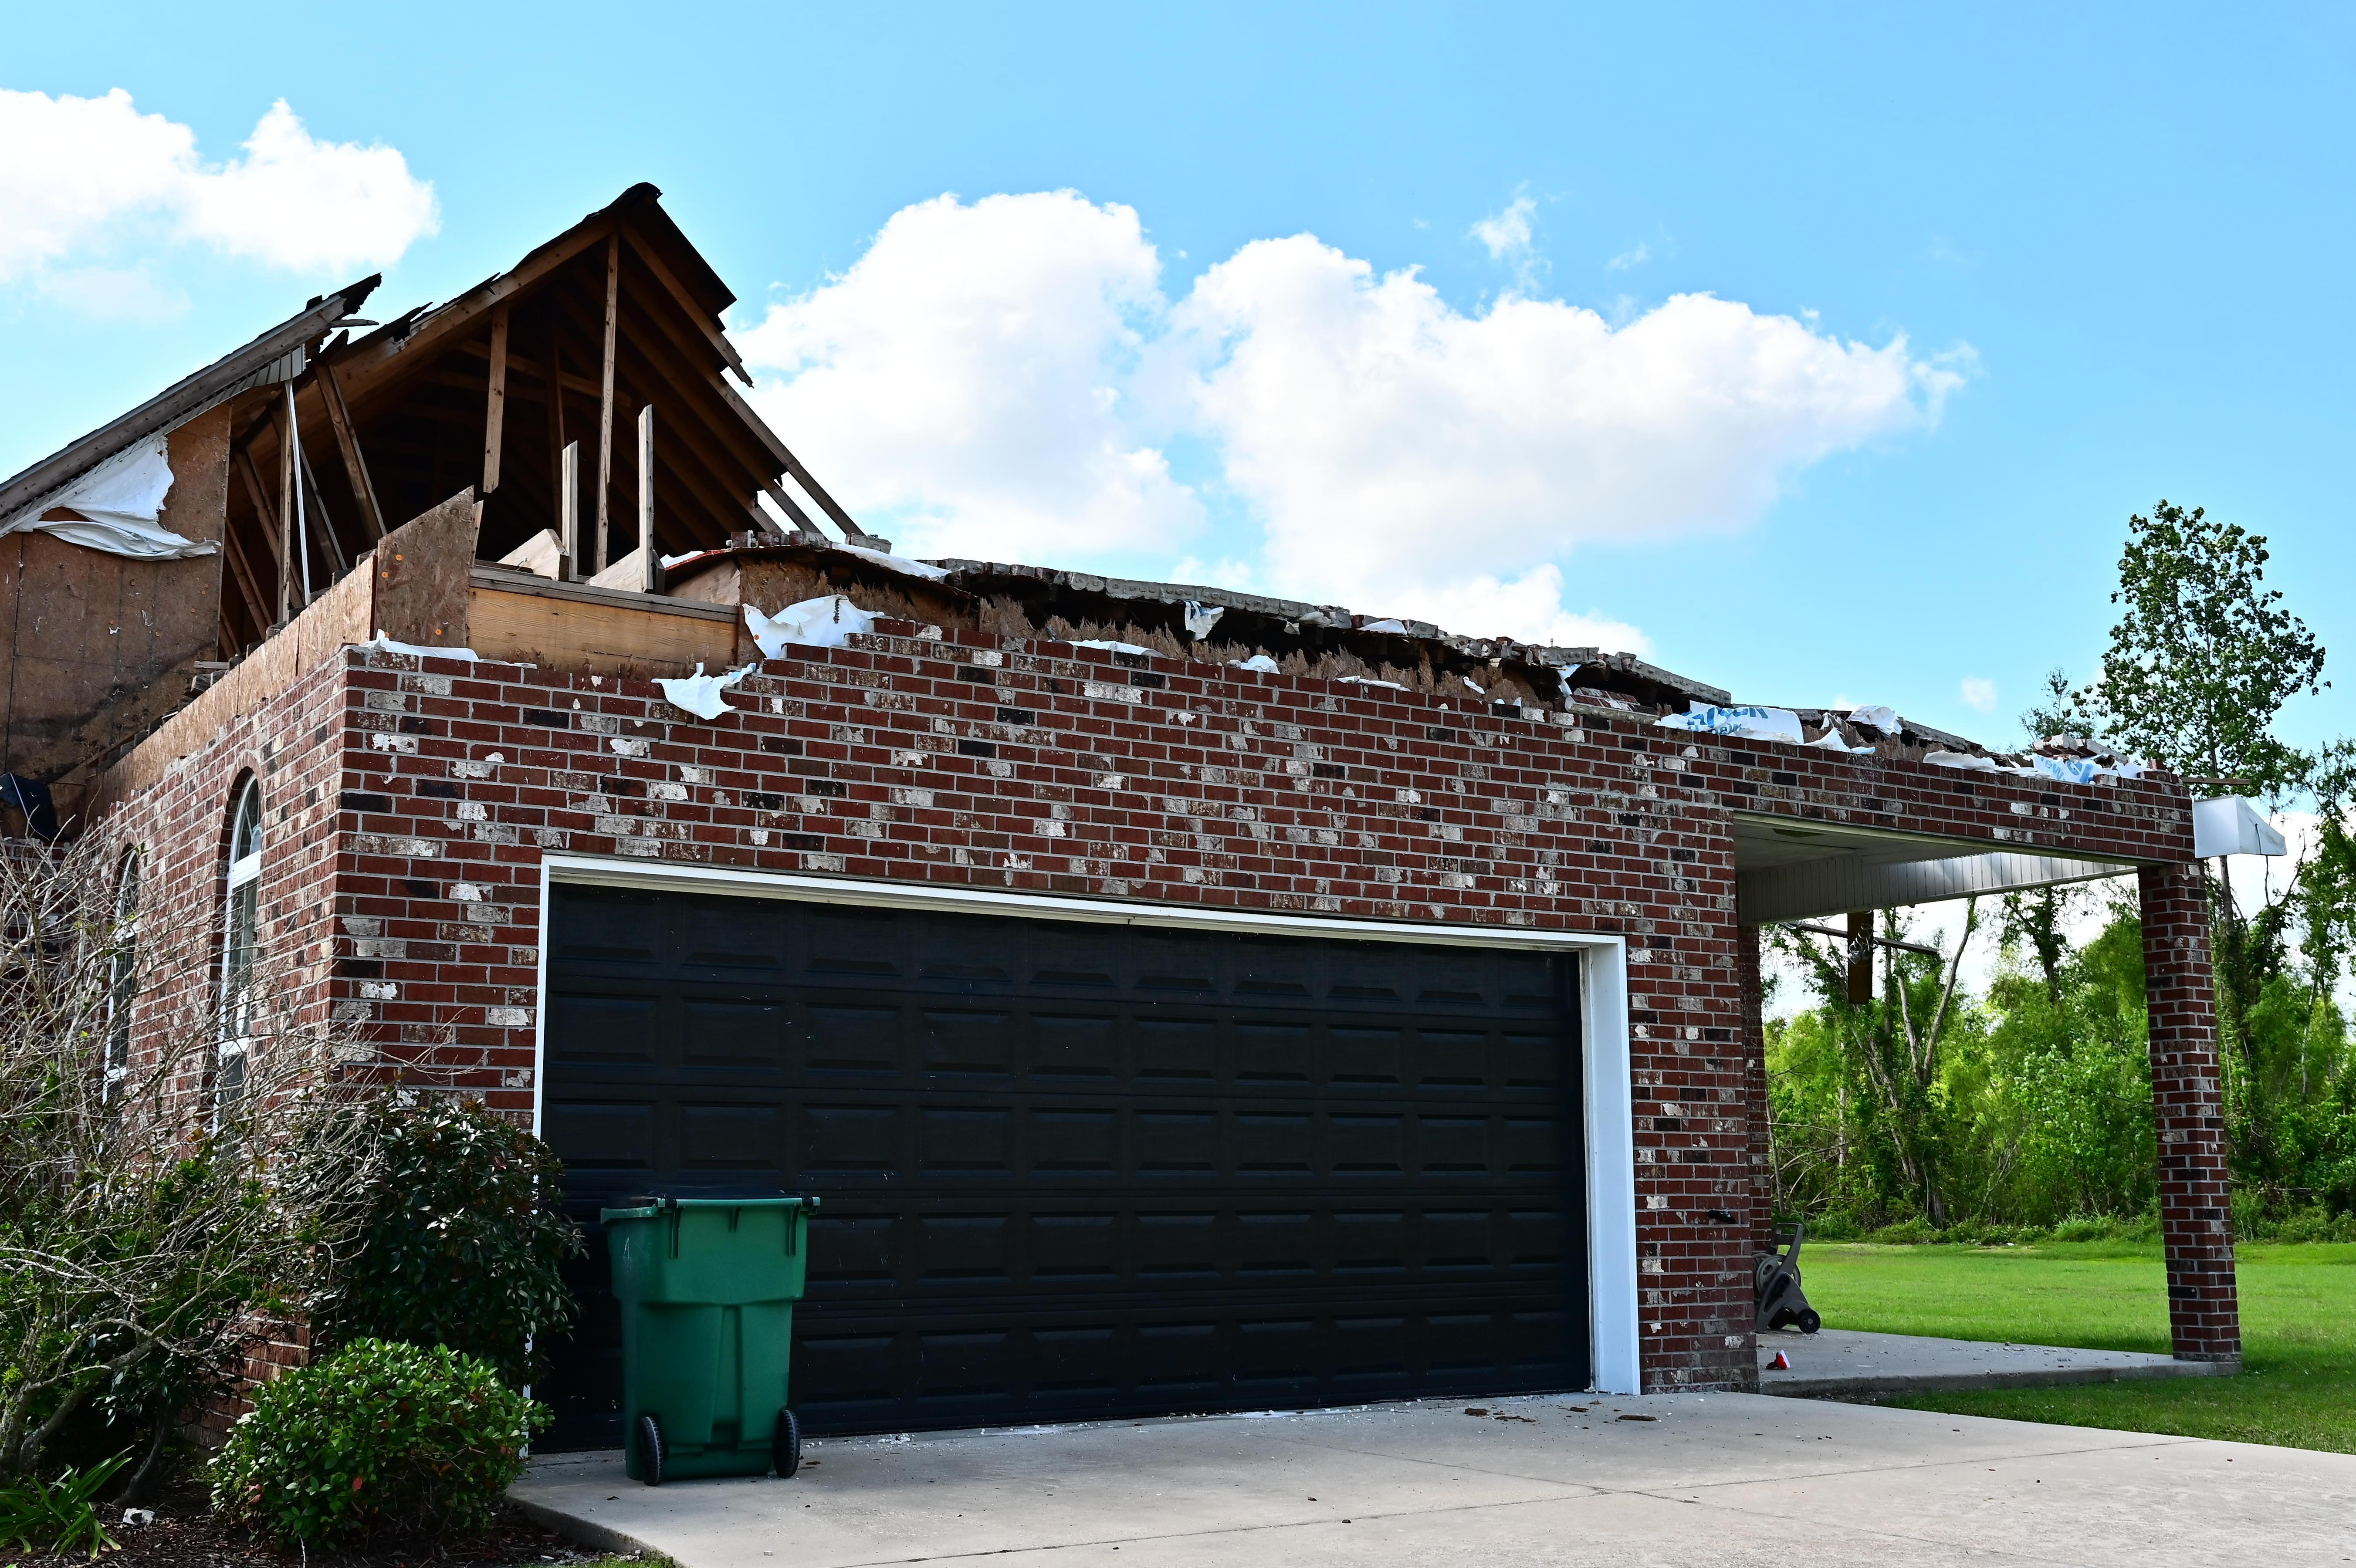destroyed: (46, 96, 2281, 1568)
